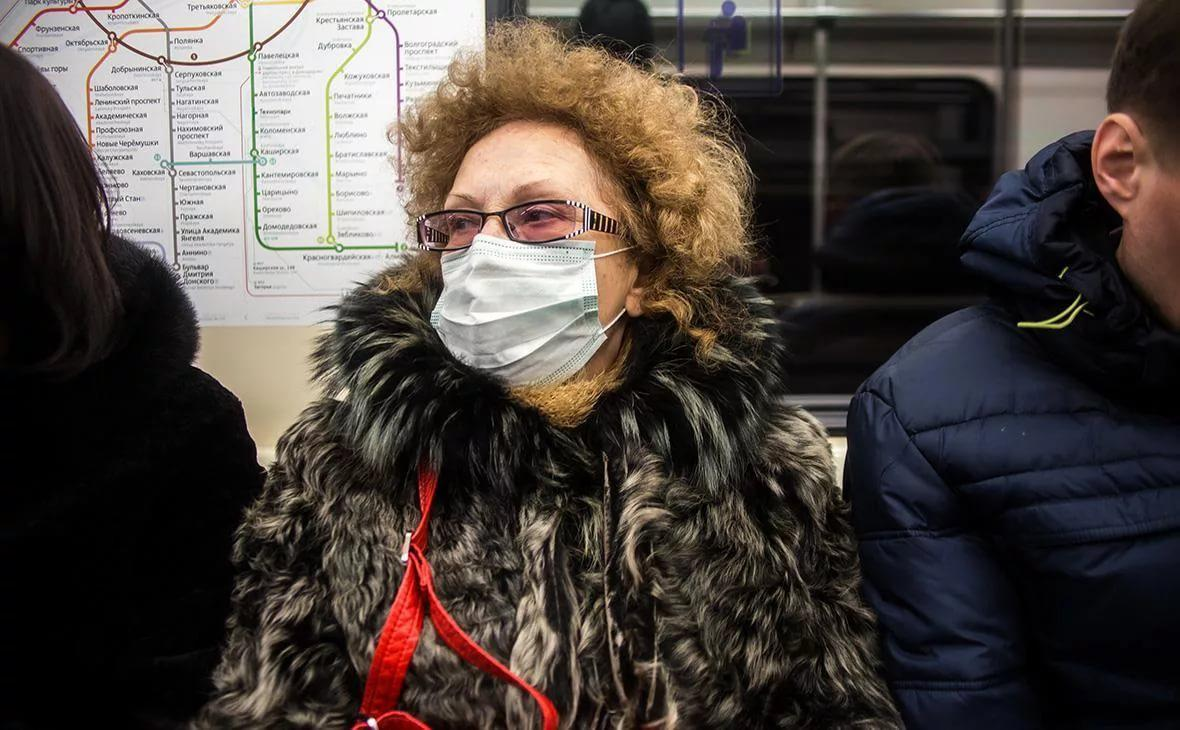mask: (423, 139, 607, 388)
